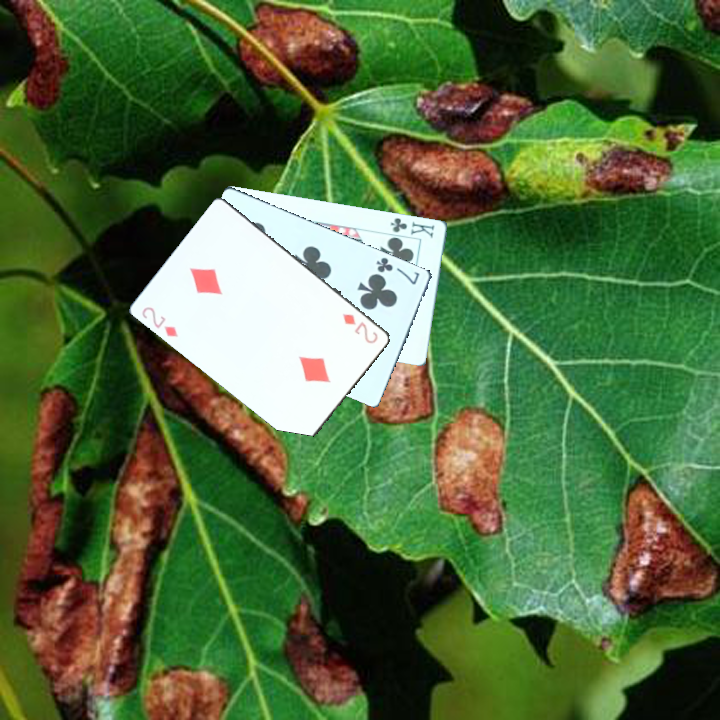2d: (137, 302, 181, 340), (338, 309, 381, 346)
7c: (372, 253, 422, 287)
Kc: (383, 214, 437, 246)
